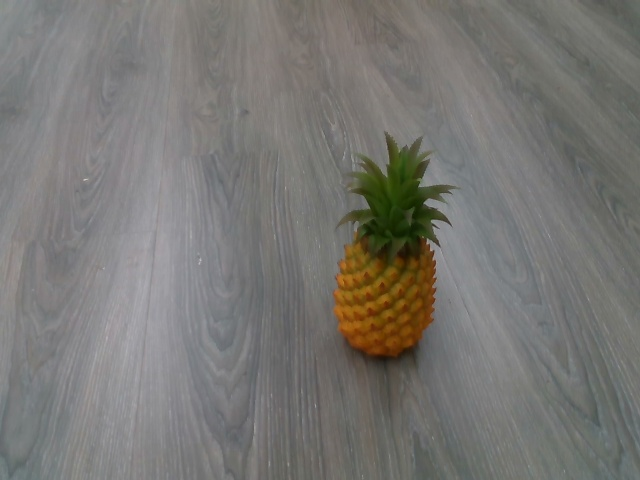pineapple: (328, 130, 460, 363)
